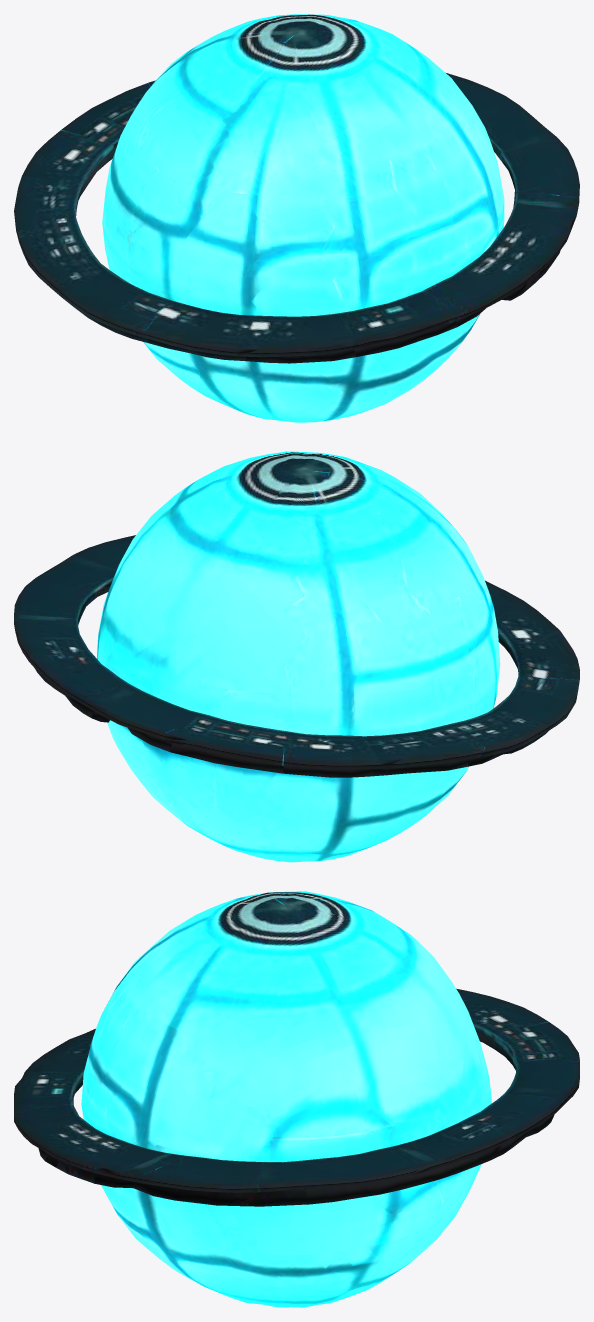
Rendered from 019fde7b-4d3f-70f4-b687-6ac367eaa9db.glb.
3 views of the same model, one above another, from view 1: azimuth 30°, elevation 25°; view 2: azimuth 150°, elevation 25°; view 3: azimuth 270°, elevation 25° (orthographic).
Parts seen in each view (by area): view 1: mesh_node; view 2: mesh_node; view 3: mesh_node.
Boxes of the visible parts, left/top/right/bottom form: mesh_node: left=14, top=14, right=579, bottom=422; mesh_node: left=14, top=451, right=579, bottom=862; mesh_node: left=14, top=891, right=579, bottom=1307.
Bounding box in the file's own units: 1 × 0.7402 × 1.
1 material, 1 textured.
